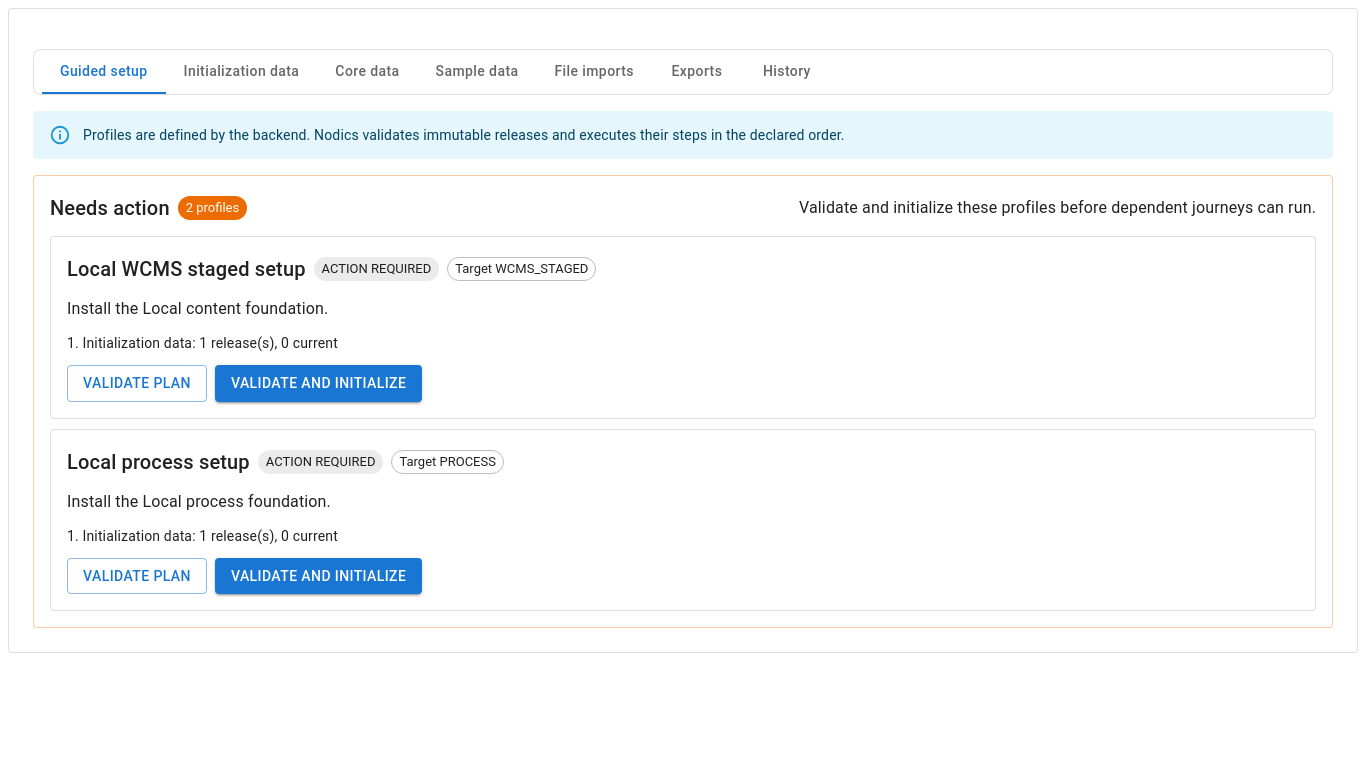
Test case: ImportExportRoutePage › shows guided profile operation feedback only on the selected profile card
The image size is (1366, 768).
Check: the heading "Local WCMS staged setup" is shown, box [67,253,306,285]
Click the button "Validate and initialize" below "Install the Local process foundation." at (319, 576), box [215,558,422,594]
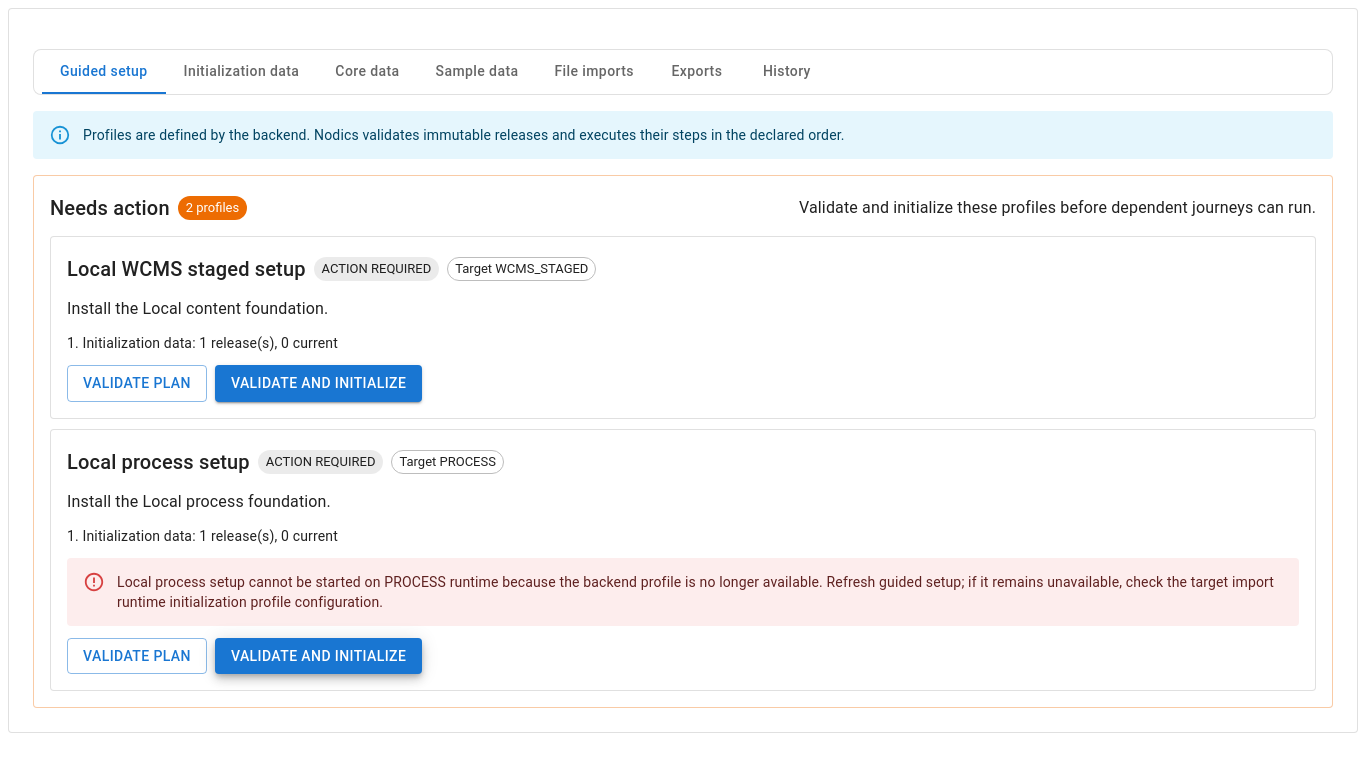
Check: the text "Local process setup cannot be started on PROCESS" is shown, box [117,574,1274,610]
